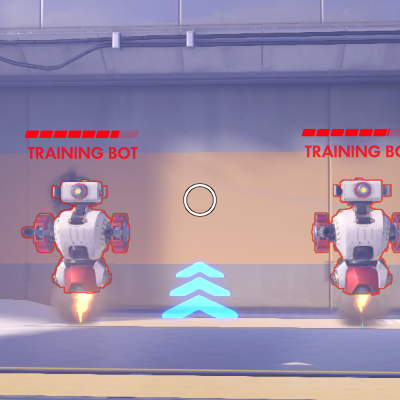hpbar: (24, 130, 139, 139), (301, 128, 400, 137)
